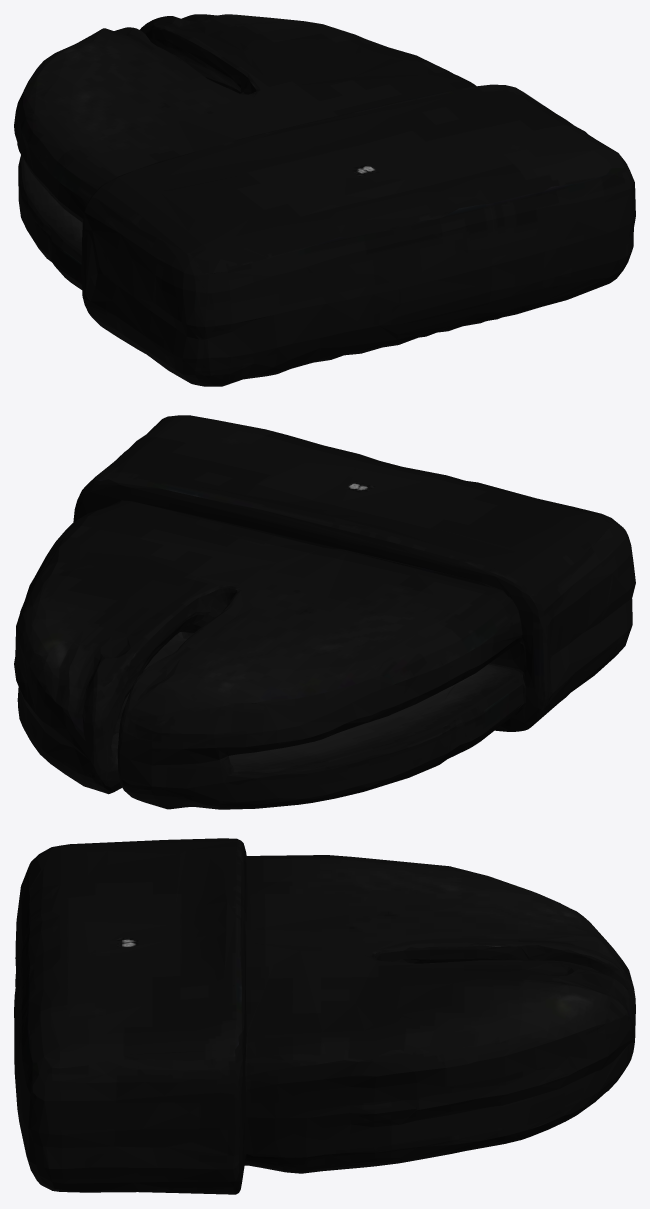
Rendered from cushion_black_ottoman.glb.
The picture shows the model from 3 angles, top to bottom: view 1: azimuth 30°, elevation 25°; view 2: azimuth 150°, elevation 25°; view 3: azimuth 270°, elevation 25°; orthographic projection. The views are drawn at different scales.
Parts seen in each view (by area): view 1: geometry_0; view 2: geometry_0; view 3: geometry_0.
Part boxes in pixels (x1,y1,x2,y2): geometry_0: [14, 14, 635, 386]; geometry_0: [14, 415, 635, 809]; geometry_0: [14, 838, 635, 1194].
Size of the model in its own units: 0.8964 by 0.3129 by 0.9976.
Materials: 1 (1 with a texture image).
